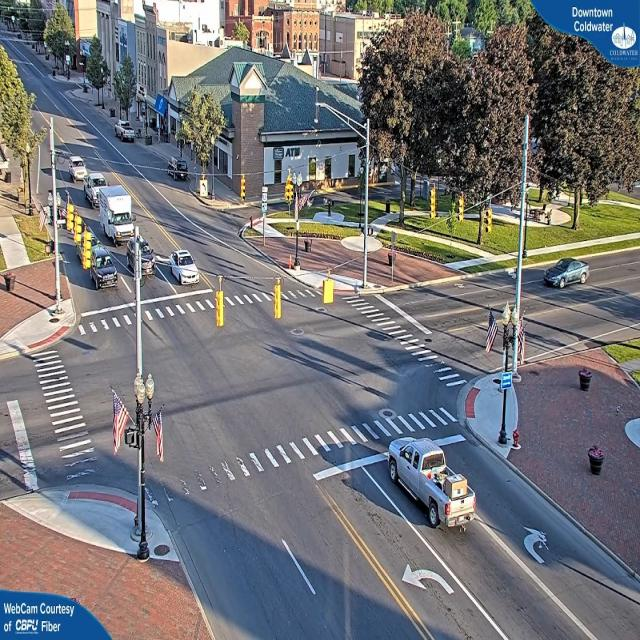car: (385, 440, 476, 536), (544, 257, 590, 289), (127, 239, 157, 284), (90, 246, 118, 292), (165, 250, 200, 286), (586, 442, 606, 476), (165, 159, 189, 180), (116, 124, 136, 143)
truck: (93, 182, 138, 246)
